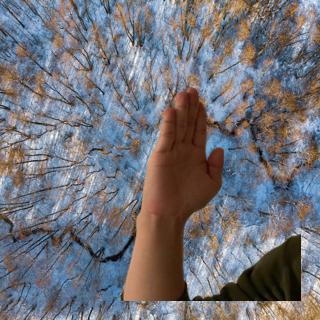RIGHT: (141, 83, 231, 225)
